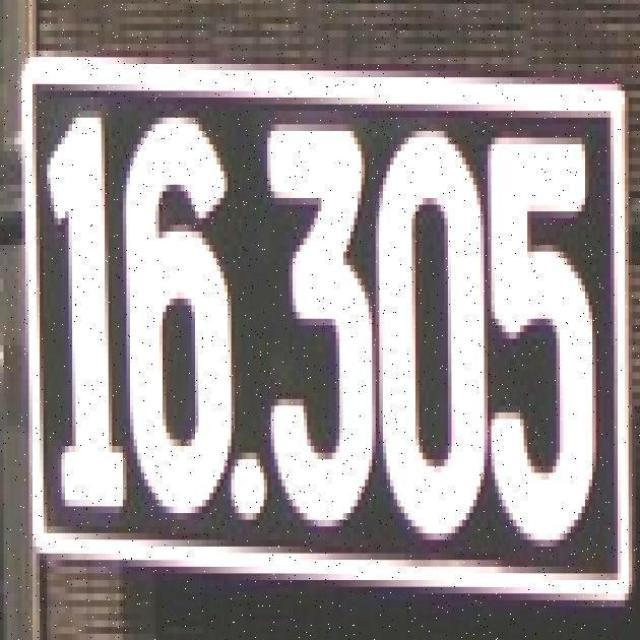license-plate: (36, 56, 640, 604)
